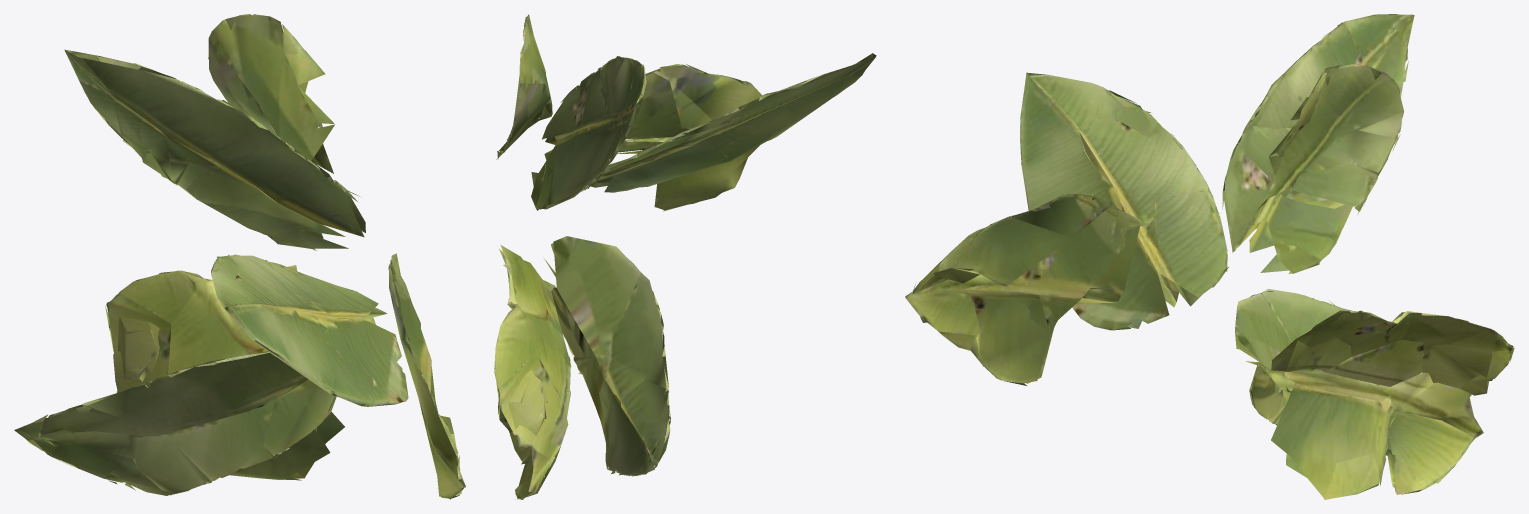
File: turtle-s02-plant-leaves.glb
3 views of the same model, side by side, from view 1: azimuth 30°, elevation 25°; view 2: azimuth 150°, elevation 25°; view 3: azimuth 270°, elevation 25° (orthographic). The views are drawn at different scales.
Parts seen in each view (by area): view 1: Mesh_0; view 2: Mesh_0; view 3: Mesh_0.
Part boxes in pixels (bbox=[...]): Mesh_0: bbox=[14, 14, 465, 499]; Mesh_0: bbox=[494, 14, 876, 499]; Mesh_0: bbox=[905, 14, 1514, 499].
Bounding box in the file's own units: 0.0623 × 0.1119 × 0.14.
1 material, 1 textured.
